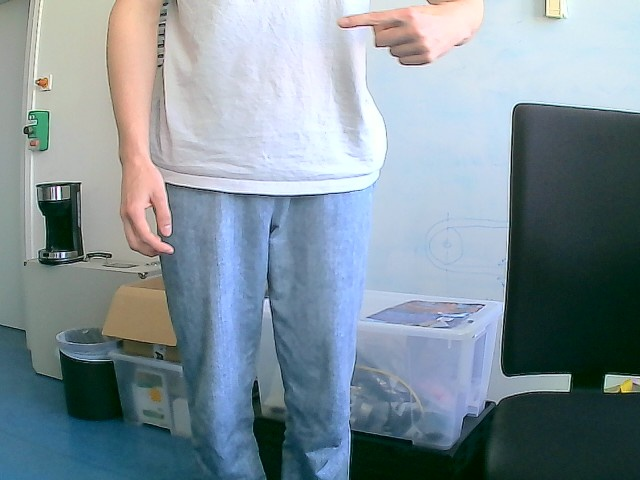no_gesture: (118, 159, 176, 258)
right: (336, 1, 485, 67)
